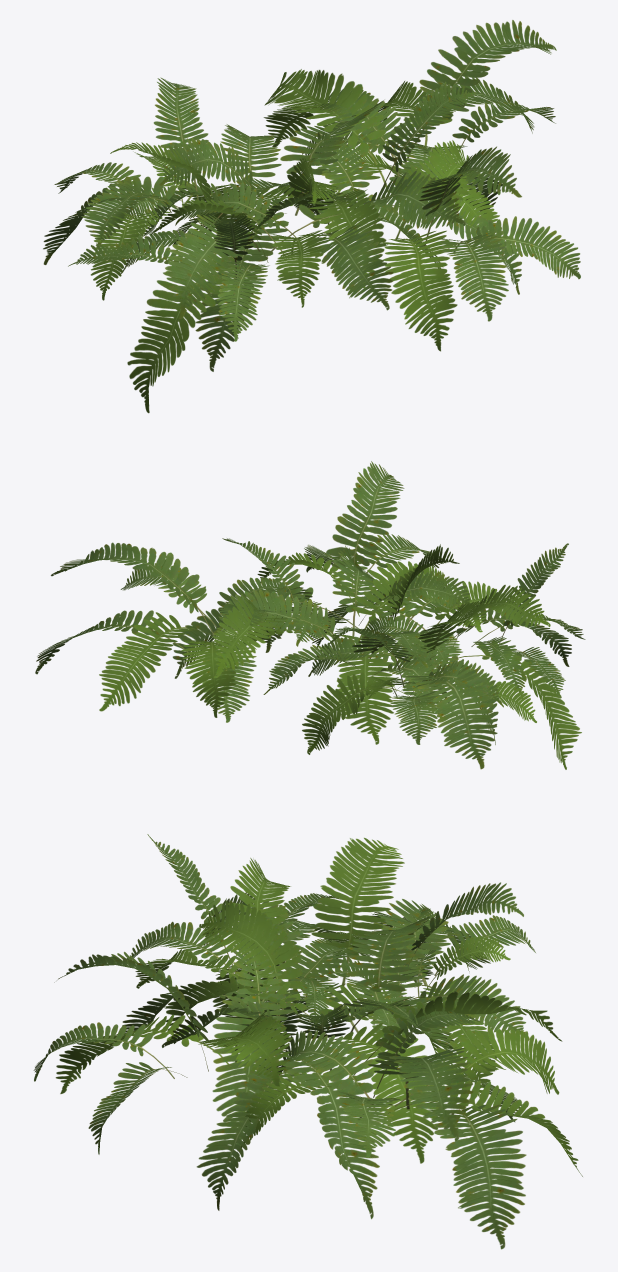
Rendered from fern0.glb.
3 views of the same model, one above another, from view 1: azimuth 30°, elevation 25°; view 2: azimuth 150°, elevation 25°; view 3: azimuth 270°, elevation 25° (orthographic). The views are drawn at different scales.
Visible parts, largest first — view 1: Polypodium_vulgare_HD_Polypodium_01b_0, Polypodium_vulgare_HD_Polypodium_01a_0; view 2: Polypodium_vulgare_HD_Polypodium_01b_0, Polypodium_vulgare_HD_Polypodium_01a_0; view 3: Polypodium_vulgare_HD_Polypodium_01b_0, Polypodium_vulgare_HD_Polypodium_01a_0.
Part boxes in pixels (x1,y1,x2,y2): Polypodium_vulgare_HD_Polypodium_01b_0: (43,20,580,371); Polypodium_vulgare_HD_Polypodium_01a_0: (90,69,499,413); Polypodium_vulgare_HD_Polypodium_01b_0: (35,461,585,769); Polypodium_vulgare_HD_Polypodium_01a_0: (99,544,581,769); Polypodium_vulgare_HD_Polypodium_01b_0: (33,834,535,1249); Polypodium_vulgare_HD_Polypodium_01a_0: (55,837,582,1176).
Bounding box in the file's own units: 0.8897 × 0.3843 × 0.7259.
2 materials, 2 textured.
